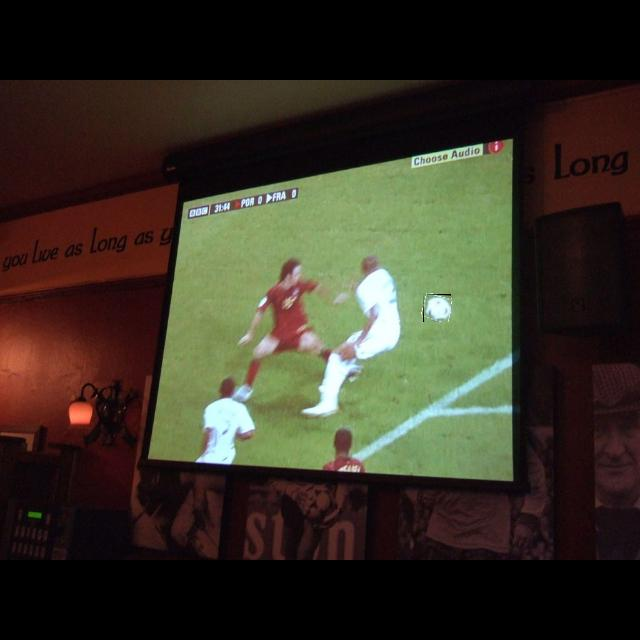Football: (423, 294, 451, 322)
